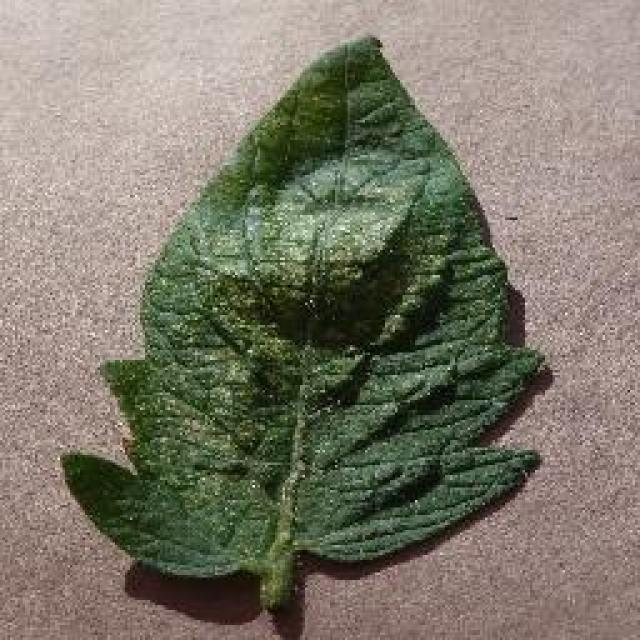Tomato mosaic virus leaf: (59, 36, 544, 584)
